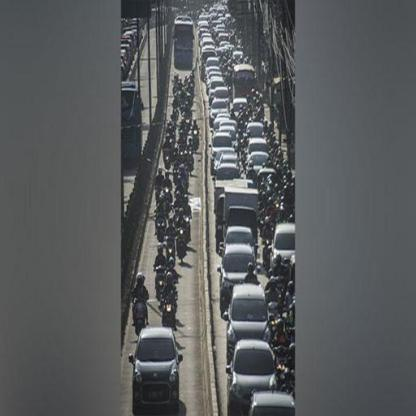bus: (171, 14, 198, 72)
car: (132, 325, 182, 410), (228, 340, 276, 404), (225, 282, 273, 344), (219, 244, 255, 293), (267, 223, 296, 269)
motorbike: (130, 294, 152, 329), (160, 293, 180, 329), (156, 206, 167, 240), (154, 261, 166, 290)
